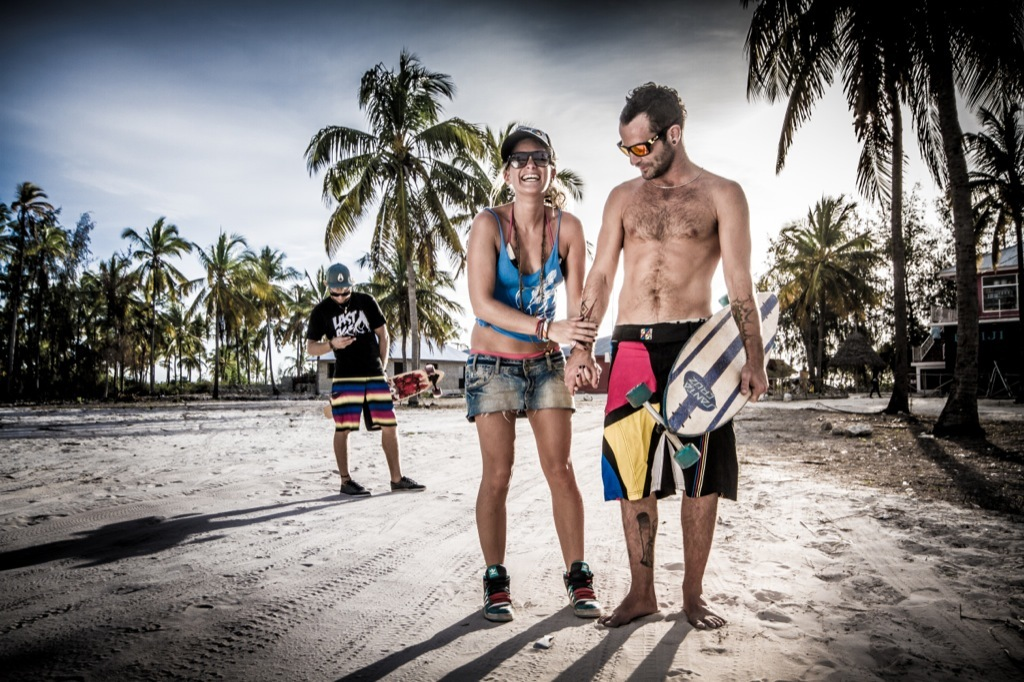Footwear: (563, 561, 605, 619), (484, 564, 514, 622), (336, 477, 370, 496), (392, 473, 425, 489)
